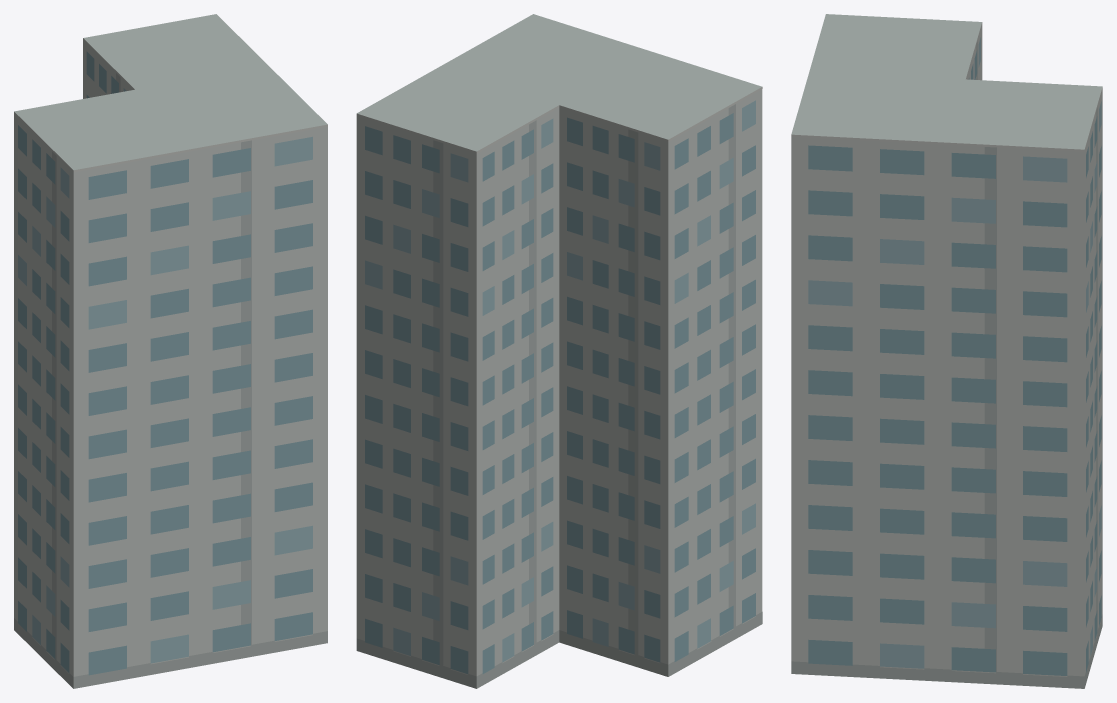
File: residential-c30ab6e8-21c4-468f-b68a-3964dedea04c.glb
3 views of the same model, side by side, from view 1: azimuth 30°, elevation 25°; view 2: azimuth 150°, elevation 25°; view 3: azimuth 270°, elevation 25° (orthographic). The views are drawn at different scales.
Visible parts, largest first — view 1: residential-c30ab6e8-21c4-468f-b68a-3964dedea04c.tmp; view 2: residential-c30ab6e8-21c4-468f-b68a-3964dedea04c.tmp; view 3: residential-c30ab6e8-21c4-468f-b68a-3964dedea04c.tmp.
Part boxes in pixels (x1=…): residential-c30ab6e8-21c4-468f-b68a-3964dedea04c.tmp: x1=14, y1=14, x2=327, y2=688; residential-c30ab6e8-21c4-468f-b68a-3964dedea04c.tmp: x1=356, y1=14, x2=762, y2=688; residential-c30ab6e8-21c4-468f-b68a-3964dedea04c.tmp: x1=791, y1=14, x2=1102, y2=688.
Size of the model in its own units: 30.76 by 57 by 29.85.
